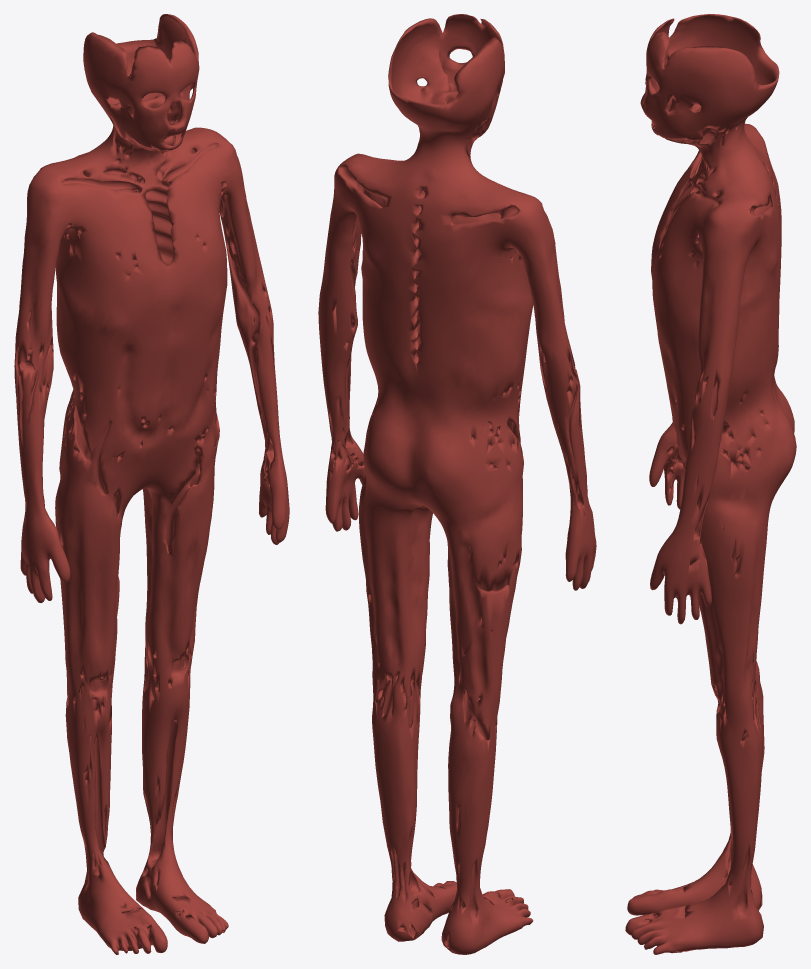
Rendered from pediatric_child_10y_female.muscular.LOD0.glb.
3 views of the same model, side by side, from view 1: azimuth 30°, elevation 25°; view 2: azimuth 150°, elevation 25°; view 3: azimuth 270°, elevation 25° (orthographic).
Visible parts, largest first — view 1: PEDIATRIC.CHILD_10Y.FEMALE.MUSCULAR.MUSCLE; view 2: PEDIATRIC.CHILD_10Y.FEMALE.MUSCULAR.MUSCLE; view 3: PEDIATRIC.CHILD_10Y.FEMALE.MUSCULAR.MUSCLE.
Part boxes in pixels (<box>): PEDIATRIC.CHILD_10Y.FEMALE.MUSCULAR.MUSCLE: <box>14,14,289,954</box>; PEDIATRIC.CHILD_10Y.FEMALE.MUSCULAR.MUSCLE: <box>318,14,596,954</box>; PEDIATRIC.CHILD_10Y.FEMALE.MUSCULAR.MUSCLE: <box>625,14,796,954</box>.
Bounding box in the file's own units: 0.4049 × 1.35 × 0.2335.
